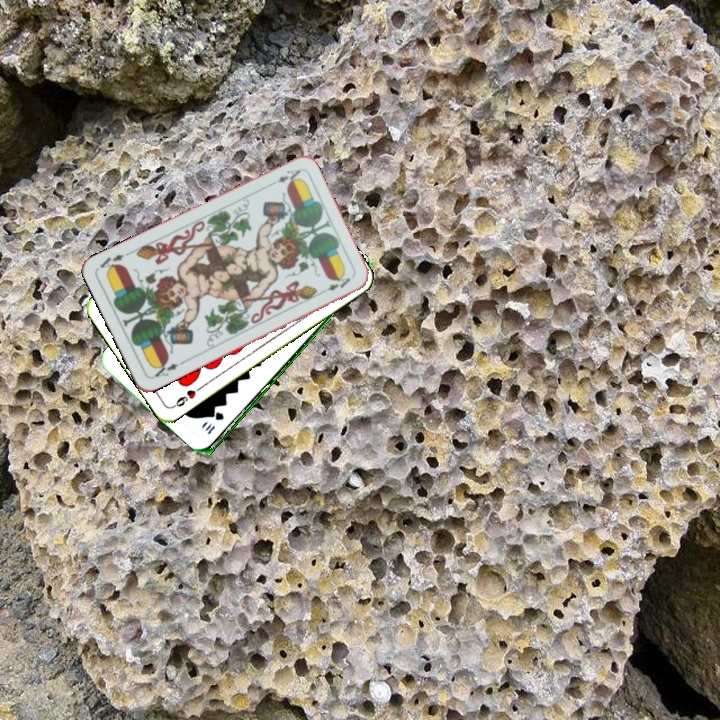EA: (265, 165, 303, 189), (149, 357, 187, 380)
G10: (201, 409, 227, 437)
H9: (168, 382, 204, 410)
